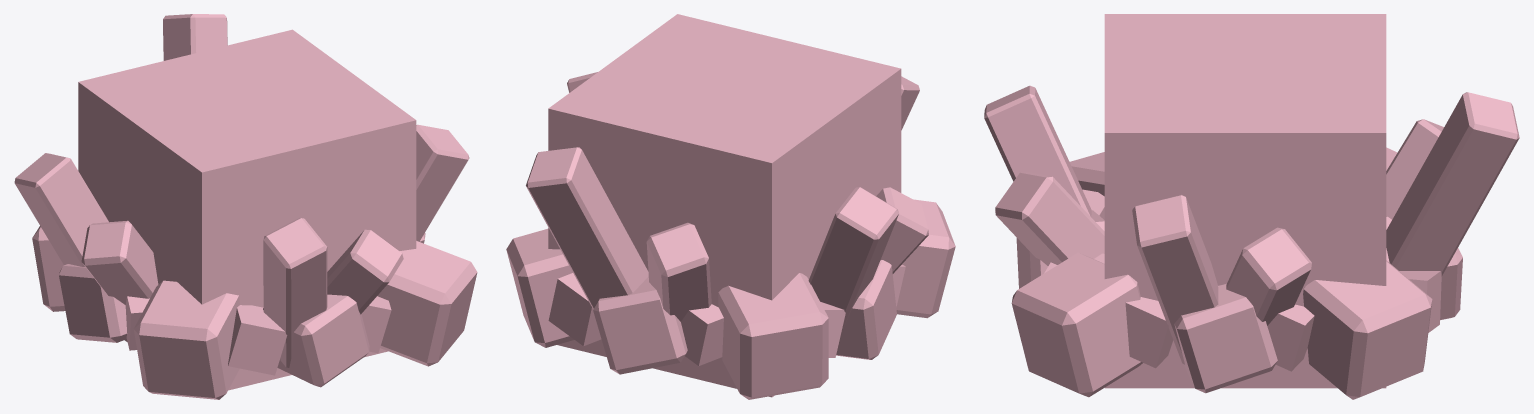
The model's file is SaltNode_Merged.fbx.
3 renders of one model, left to right at view 1: azimuth 30°, elevation 25°; view 2: azimuth 150°, elevation 25°; view 3: azimuth 270°, elevation 25°, orthographic. The views are drawn at different scales.
Parts seen in each view (by area): view 1: Cube; view 2: Cube; view 3: Cube.
Part boxes in pixels (x1,y1,x2,y2): Cube: [14, 14, 477, 399]; Cube: [506, 14, 955, 399]; Cube: [984, 14, 1519, 399].
Bounding box in the file's own units: 342 × 204 × 380.
